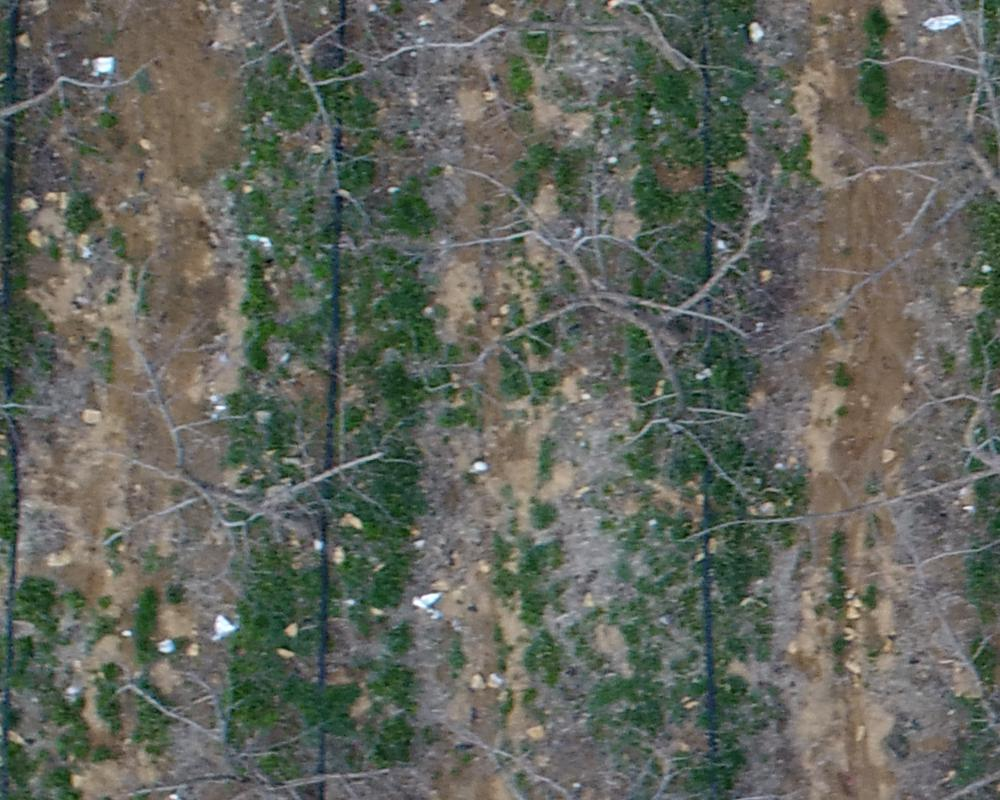apple: (434, 145, 802, 480), (677, 325, 990, 678), (17, 10, 431, 227), (80, 322, 395, 594), (413, 10, 781, 108)
